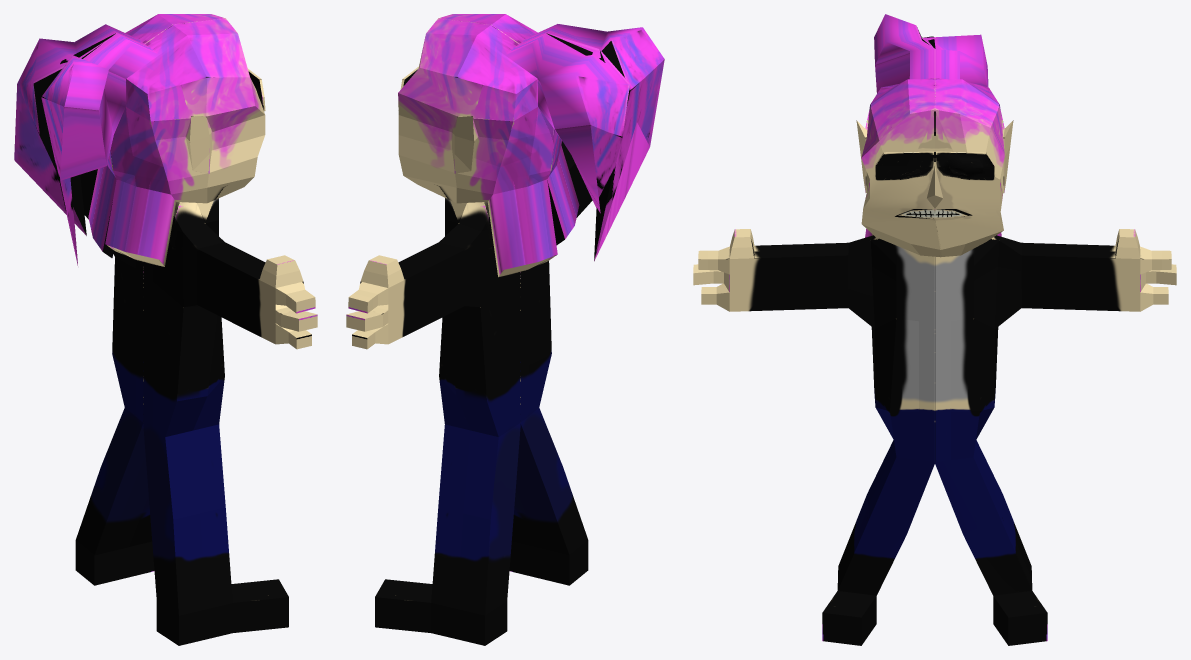
File: Vara.fbx
The picture shows the model from 3 angles, left to right: view 1: azimuth 30°, elevation 25°; view 2: azimuth 150°, elevation 25°; view 3: azimuth 270°, elevation 25°; orthographic projection. The views are drawn at different scales.
Visible parts, largest first — view 1: Cube; view 2: Cube; view 3: Cube.
Part boxes in pixels (x1,y1,x2,y2): Cube: [14, 14, 317, 645]; Cube: [346, 14, 664, 645]; Cube: [693, 14, 1176, 645].
Size of the model in its own units: 2531 by 6726 by 5413.
1 material, 1 textured.
